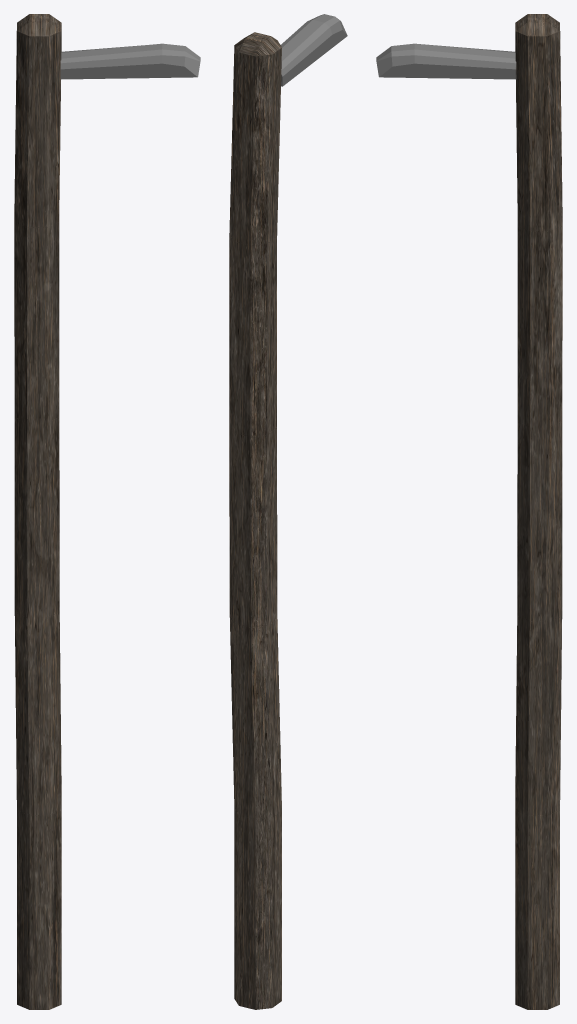
Rendered from M_Lamp_Post_1.fbx.
The picture shows the model from 3 angles, left to right: view 1: azimuth 90°, elevation 25°; view 2: azimuth 150°, elevation 25°; view 3: azimuth 270°, elevation 25°; orthographic projection. The views are drawn at different scales.
Parts seen in each view (by area): view 1: Lamp_Post_1; view 2: Lamp_Post_1; view 3: Lamp_Post_1.
Boxes of the visible parts, box(x1,y1,x2,y2) form: Lamp_Post_1: box(14, 14, 200, 1009); Lamp_Post_1: box(229, 14, 347, 1009); Lamp_Post_1: box(376, 14, 562, 1009).
Size of the model in its own units: 16.56 by 362 by 62.24.
1 material, 1 textured.
